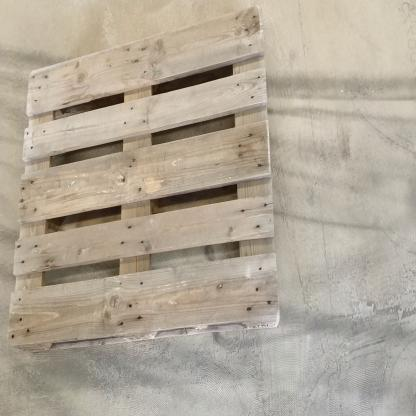BoxFace: (3, 1, 285, 362)
